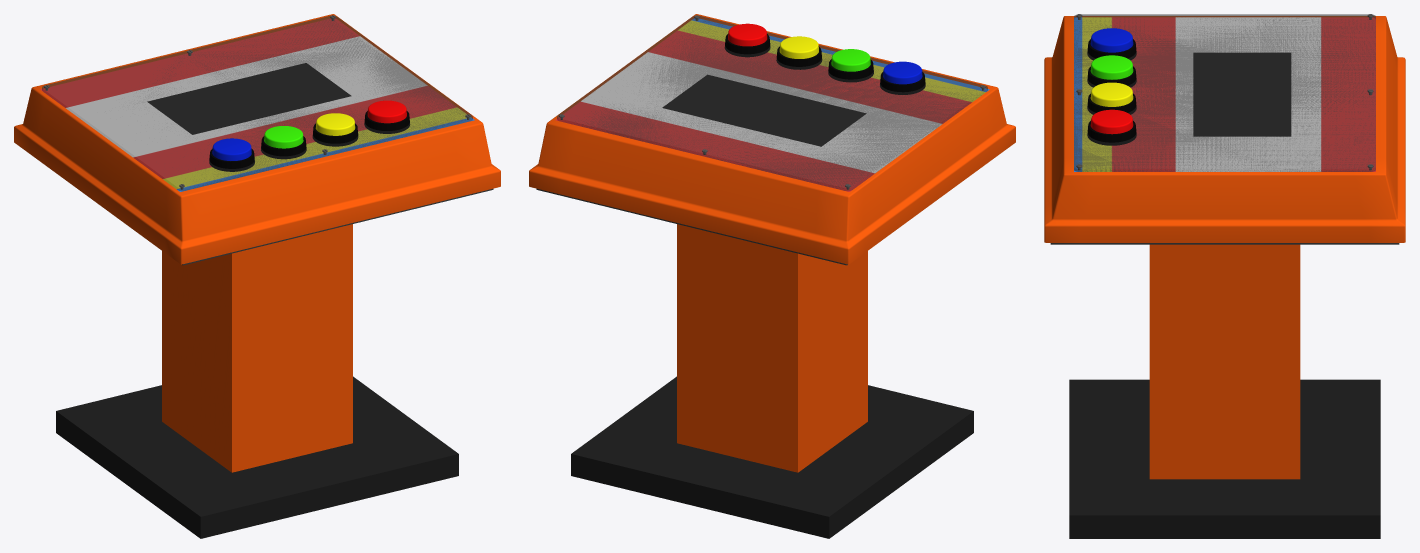
File: TheMachine.fbx
The picture shows the model from 3 angles, left to right: view 1: azimuth 30°, elevation 25°; view 2: azimuth 150°, elevation 25°; view 3: azimuth 270°, elevation 25°; orthographic projection. The views are drawn at different scales.
Parts seen in each view (by area): view 1: TheMachine_Bottom, Button_Red, Button_Blue, Button_Green, Button_Yellow; view 2: TheMachine_Bottom, Button_Blue, Button_Green, Button_Red, Button_Yellow; view 3: TheMachine_Bottom, Button_Blue, Button_Yellow, Button_Green, Button_Red.
Boxes of the visible parts, box(x1,y1,x2,y2) form: TheMachine_Bottom: box(14, 14, 500, 538); Button_Red: box(367, 100, 406, 123); Button_Blue: box(212, 138, 251, 160); Button_Green: box(264, 126, 303, 148); Button_Yellow: box(315, 113, 355, 135); TheMachine_Bottom: box(529, 14, 1015, 538); Button_Blue: box(883, 61, 922, 84); Button_Green: box(831, 49, 870, 71); Button_Red: box(728, 23, 767, 46); Button_Yellow: box(779, 36, 818, 58); TheMachine_Bottom: box(1044, 14, 1405, 538); Button_Blue: box(1090, 28, 1133, 52); Button_Yellow: box(1090, 82, 1133, 106); Button_Green: box(1090, 55, 1133, 79); Button_Red: box(1090, 109, 1133, 134).
Bounding box in the file's own units: 1129 × 1232 × 1024.
